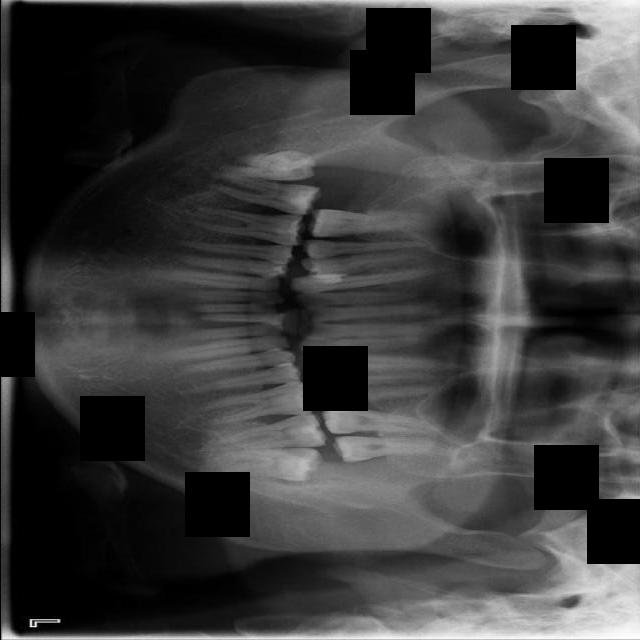52: (280, 407, 329, 456), (266, 180, 322, 218), (262, 208, 310, 250), (318, 403, 369, 438), (290, 273, 346, 294), (254, 260, 290, 279)
73: (80, 601, 99, 607)
BioHorizons Implant: (331, 430, 451, 464)
Biomet 3i Implant: (213, 448, 322, 482)
Implant: (213, 170, 323, 219), (216, 412, 328, 454)
Keystone Dental Implant: (219, 147, 316, 183)
